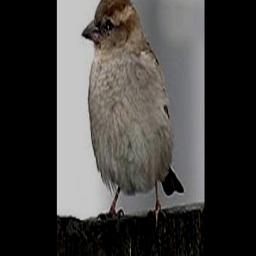Sparrow: (81, 0, 185, 231)
